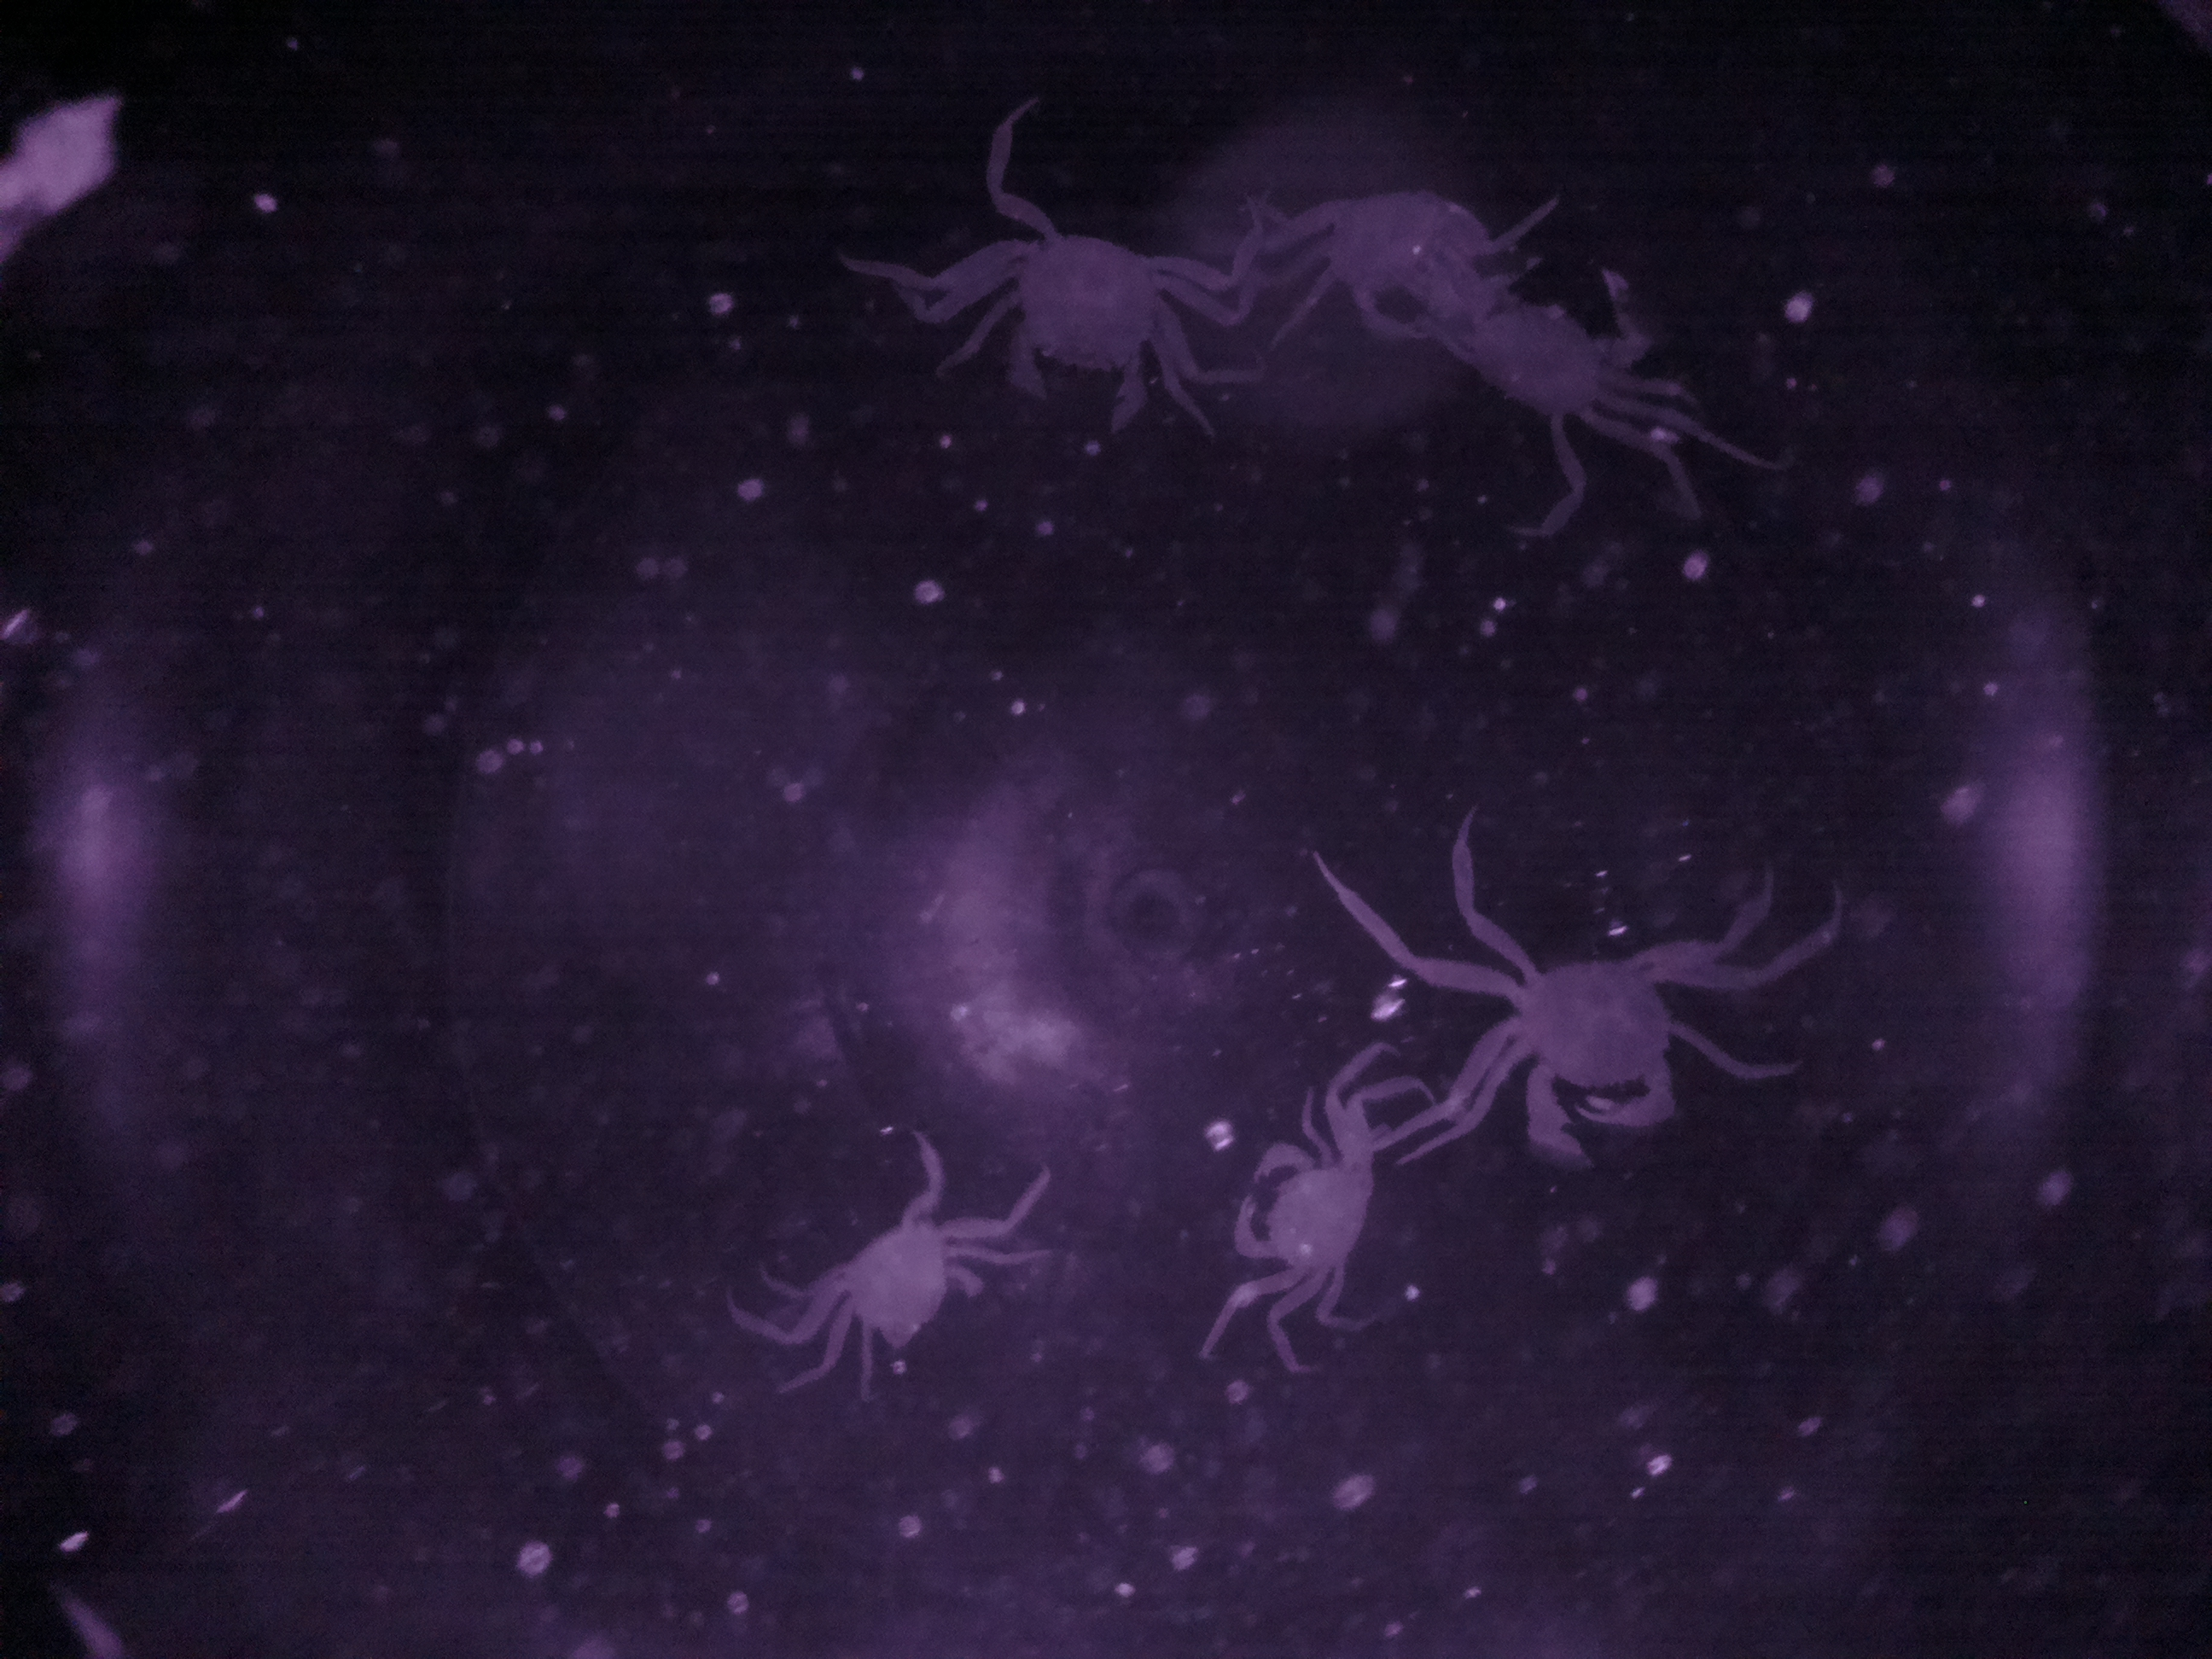Crab: (1402, 913, 1764, 1185), (921, 174, 1233, 462), (1214, 1072, 1395, 1370), (777, 1178, 1014, 1399)
